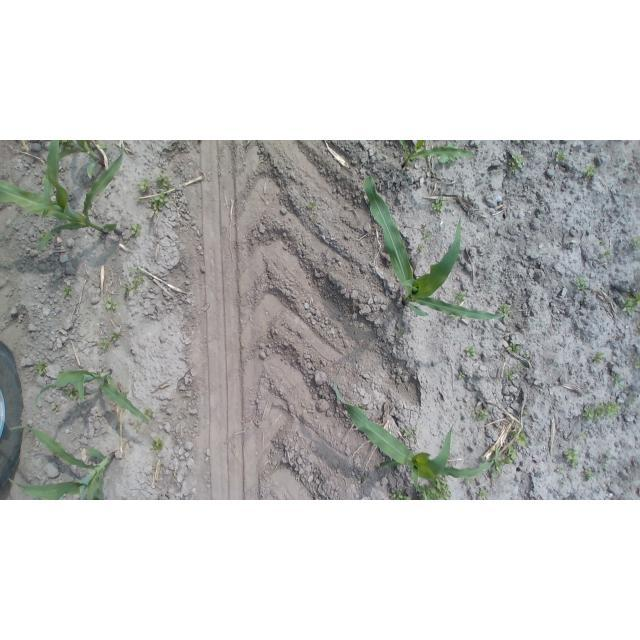Maize: (333, 359, 498, 490), (362, 172, 504, 321), (1, 140, 124, 252), (8, 424, 115, 500), (33, 367, 150, 425), (45, 141, 108, 180), (400, 141, 475, 170)
Weeds: (481, 446, 517, 479), (415, 475, 452, 500), (583, 401, 621, 423), (621, 292, 640, 317), (123, 274, 145, 293), (152, 190, 169, 214), (156, 170, 173, 191), (563, 448, 580, 469), (64, 387, 87, 402), (509, 154, 524, 176), (511, 428, 530, 445), (571, 276, 589, 292), (611, 372, 625, 391), (32, 359, 48, 375), (391, 488, 411, 500), (440, 156, 460, 168), (581, 162, 597, 177), (151, 438, 165, 455), (471, 408, 489, 420), (128, 223, 143, 237), (431, 198, 445, 212), (104, 297, 120, 309), (451, 291, 467, 303), (143, 407, 156, 421), (497, 304, 511, 317), (403, 427, 417, 439), (139, 180, 152, 192), (593, 352, 606, 364), (602, 452, 611, 468), (555, 150, 567, 162), (477, 487, 488, 500), (98, 339, 112, 349), (506, 342, 520, 352), (465, 347, 477, 358), (108, 331, 120, 341), (633, 353, 640, 370), (632, 236, 640, 249), (64, 285, 73, 296), (307, 200, 318, 209), (584, 469, 593, 480), (133, 419, 142, 429), (416, 244, 425, 254), (424, 231, 433, 241), (554, 467, 566, 474), (506, 370, 514, 380), (604, 250, 612, 260), (128, 267, 141, 273), (451, 315, 462, 322), (21, 213, 32, 220), (51, 404, 59, 413), (465, 476, 474, 484), (40, 232, 48, 241), (359, 403, 367, 411), (120, 237, 129, 244), (579, 432, 586, 441), (459, 371, 467, 378), (516, 364, 522, 373), (630, 396, 636, 404), (446, 144, 455, 149), (398, 329, 404, 336), (438, 144, 446, 148), (600, 241, 606, 246), (524, 409, 529, 415), (121, 496, 127, 501), (360, 476, 366, 481), (523, 141, 532, 144), (524, 354, 529, 359), (588, 190, 593, 195), (12, 228, 17, 233), (520, 222, 524, 227), (311, 219, 315, 223), (562, 480, 566, 484), (432, 145, 436, 148)
